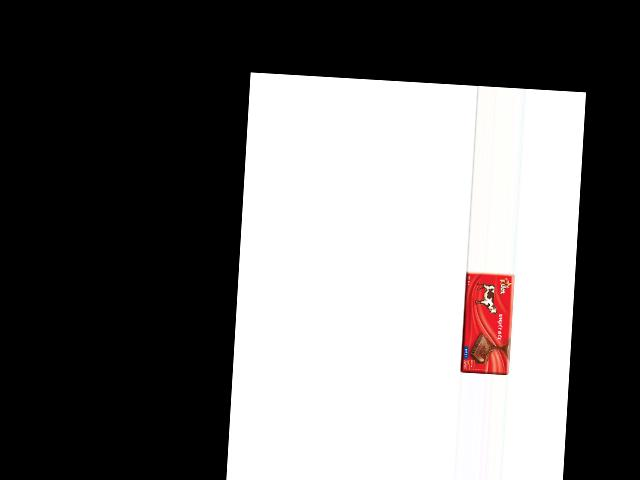chocolate: (460, 270, 515, 375)
